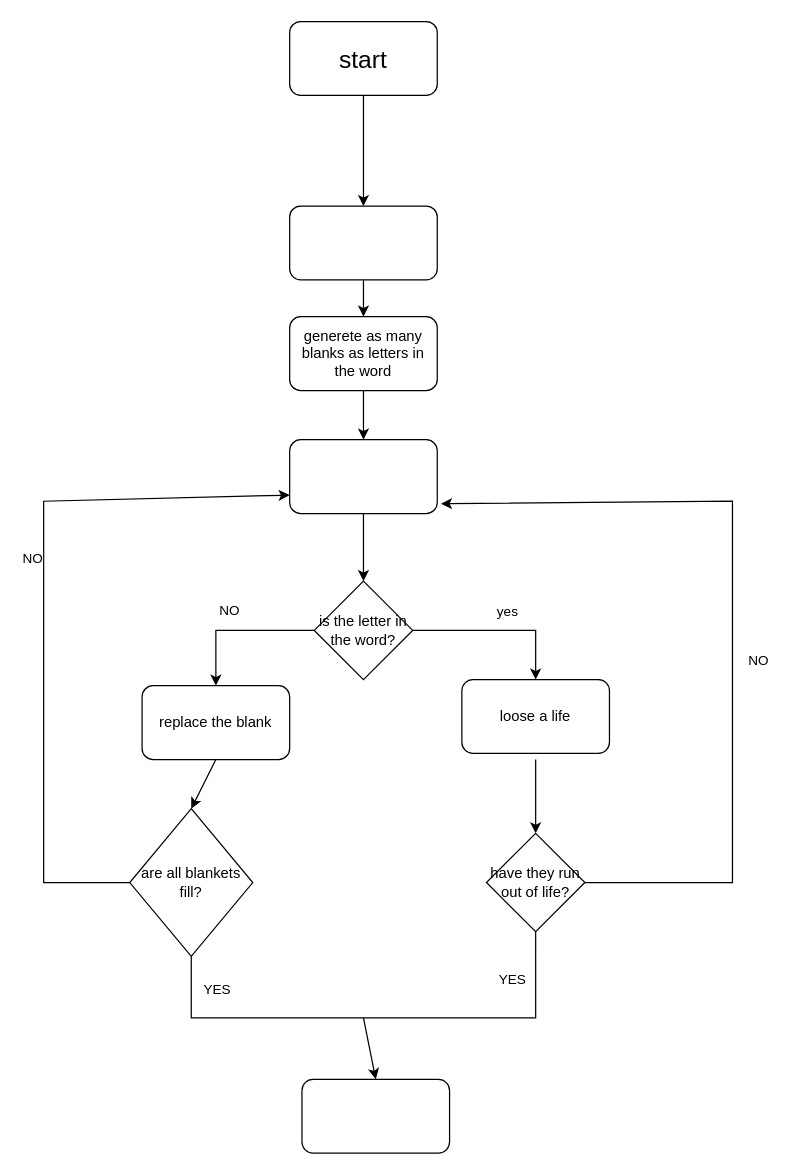
Image size: 788x1175. Some labels were removed from this diagram. The centre of each missing label's shape, as x and y in pixels:
"ask a player to guess the letter" goes at [362,476].
"GAME OVER" goes at [375,1115].
"generate a random word" goes at [362,242].
